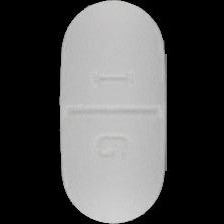61919-968: (0, 0, 224, 224)
